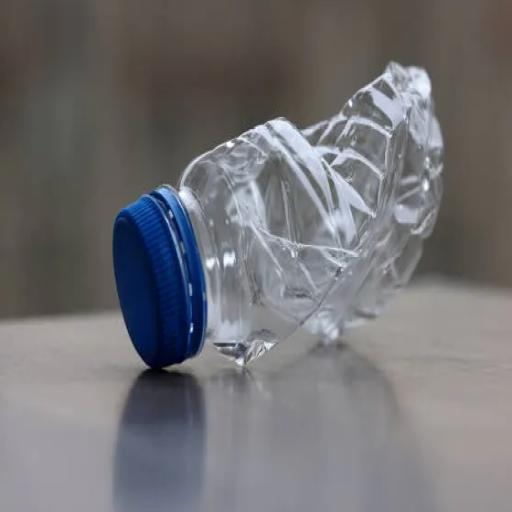bottles: (114, 64, 442, 366)
